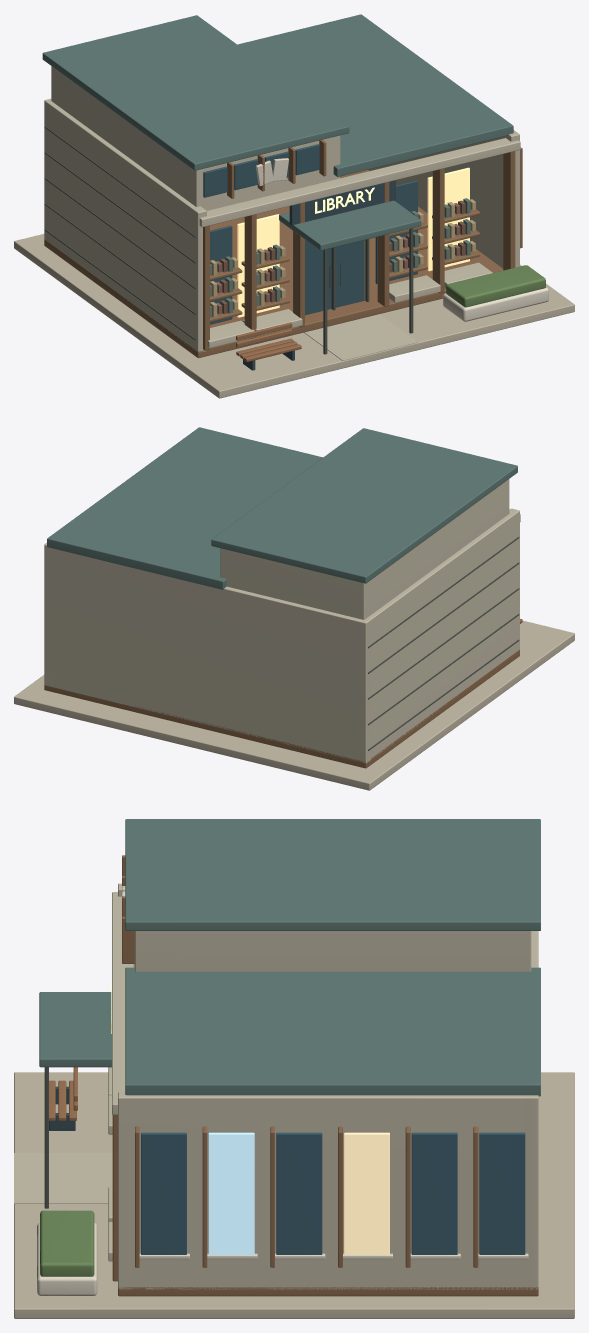
The model's file is library.glb.
The picture shows the model from 3 angles, top to bottom: view 1: azimuth 30°, elevation 25°; view 2: azimuth 150°, elevation 25°; view 3: azimuth 270°, elevation 25°; orthographic projection. The views are drawn at different scales.
Parts seen in each view (by area): view 1: library_Book_Hall_Coping, library_West_Stone_Wall, library_Reading_Wing_Roof, library_Civic_Paving, library_Upper_Book_Hall, library_Reading_Floor, library_Front_Lintel, library_East_Stone_Wall, library_Entrance_Canopy, library_Recessed_Double_Door, library_Entrance_Walk, library_Hedge (+22 smaller); view 2: library_Rear_Stone_Wall, library_Book_Hall_Coping, library_Reading_Wing_Roof, library_West_Stone_Wall, library_Civic_Paving, library_Upper_Book_Hall, library_Reading_Floor; view 3: library_Reading_Wing_Roof, library_Book_Hall_Coping, library_East_Stone_Wall, library_Civic_Paving, library_Upper_Book_Hall, library_Window_Recess, library_Window_Recess.001, library_Window_Recess.003, library_Window_Recess.004, library_Window_Recess.002, library_Window_Recess.005, library_Entrance_Canopy (+14 smaller).
Boxes of the visible parts, left/top/right/bottom form: library_Book_Hall_Coping: left=42, top=15, right=349, bottom=170; library_West_Stone_Wall: left=45, top=98, right=206, bottom=352; library_Reading_Wing_Roof: left=237, top=14, right=513, bottom=176; library_Civic_Paving: left=14, top=234, right=574, bottom=398; library_Upper_Book_Hall: left=51, top=66, right=340, bottom=210; library_Reading_Floor: left=44, top=170, right=503, bottom=358; library_Front_Lintel: left=199, top=138, right=520, bottom=227; library_East_Stone_Wall: left=368, top=130, right=519, bottom=268; library_Entrance_Canopy: left=279, top=200, right=421, bottom=250; library_Recessed_Double_Door: left=305, top=240, right=364, bottom=315; library_Entrance_Walk: left=304, top=314, right=417, bottom=360; library_Hedge: left=446, top=265, right=545, bottom=307; library_Rear_Stone_Wall: left=44, top=543, right=370, bottom=763; library_Book_Hall_Coping: left=211, top=428, right=517, bottom=583; library_Reading_Wing_Roof: left=47, top=427, right=322, bottom=589; library_West_Stone_Wall: left=357, top=508, right=519, bottom=761; library_Civic_Paving: left=14, top=620, right=574, bottom=790; library_Upper_Book_Hall: left=220, top=479, right=509, bottom=619; library_Reading_Floor: left=44, top=650, right=519, bottom=768; library_Reading_Wing_Roof: left=125, top=967, right=540, bottom=1096; library_Book_Hall_Coping: left=125, top=819, right=540, bottom=930; library_East_Stone_Wall: left=118, top=1092, right=538, bottom=1289; library_Civic_Paving: left=14, top=1072, right=574, bottom=1318; library_Upper_Book_Hall: left=135, top=931, right=531, bottom=971; library_Window_Recess: left=479, top=1132, right=525, bottom=1254; library_Window_Recess.001: left=411, top=1132, right=457, bottom=1254; library_Window_Recess.003: left=276, top=1132, right=322, bottom=1254; library_Window_Recess.004: left=208, top=1132, right=254, bottom=1254; library_Window_Recess.002: left=344, top=1132, right=389, bottom=1254; library_Window_Recess.005: left=141, top=1132, right=186, bottom=1254; library_Entrance_Canopy: left=39, top=992, right=111, bottom=1067.
Bounding box in the file's own units: 11.6 × 6.26 × 11.6.
